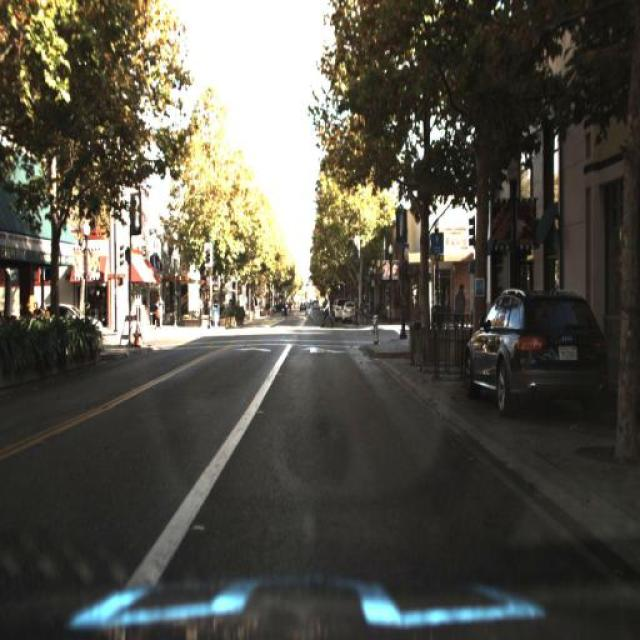car: (466, 282, 609, 413), (340, 296, 358, 329), (331, 296, 342, 332)
trafficLight: (318, 280, 334, 336), (452, 282, 468, 330), (452, 286, 468, 333), (154, 294, 167, 338), (152, 300, 163, 336)
trafficLight-RedLeft: (352, 234, 362, 267), (203, 244, 214, 270)
